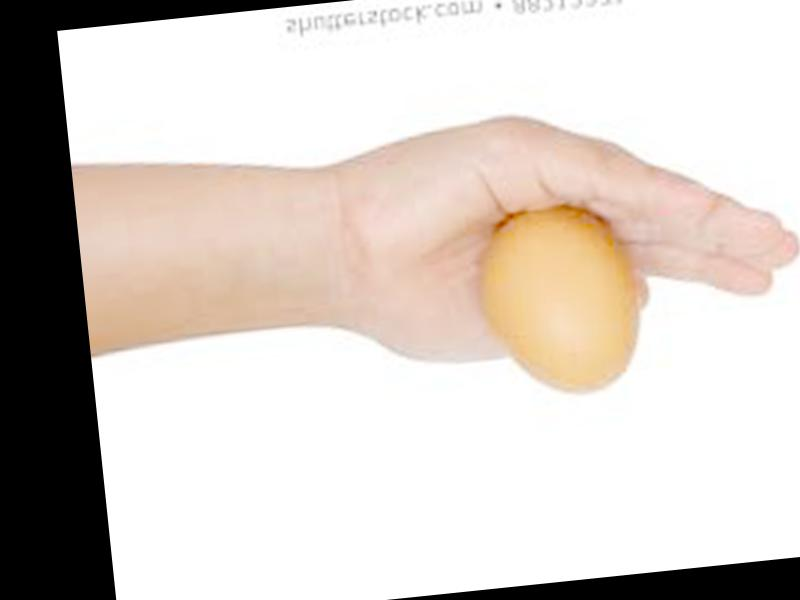Eggs: (474, 196, 647, 404)
